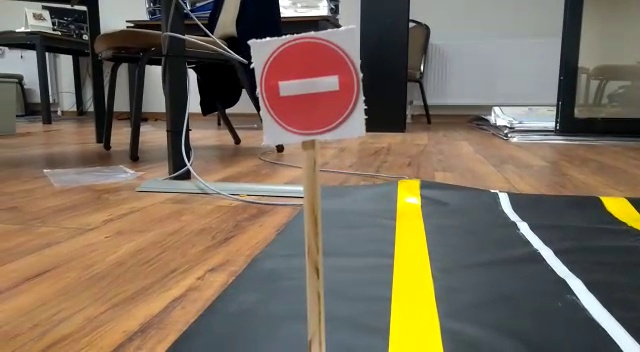girisi_olmayan_yol: (252, 37, 366, 135)
